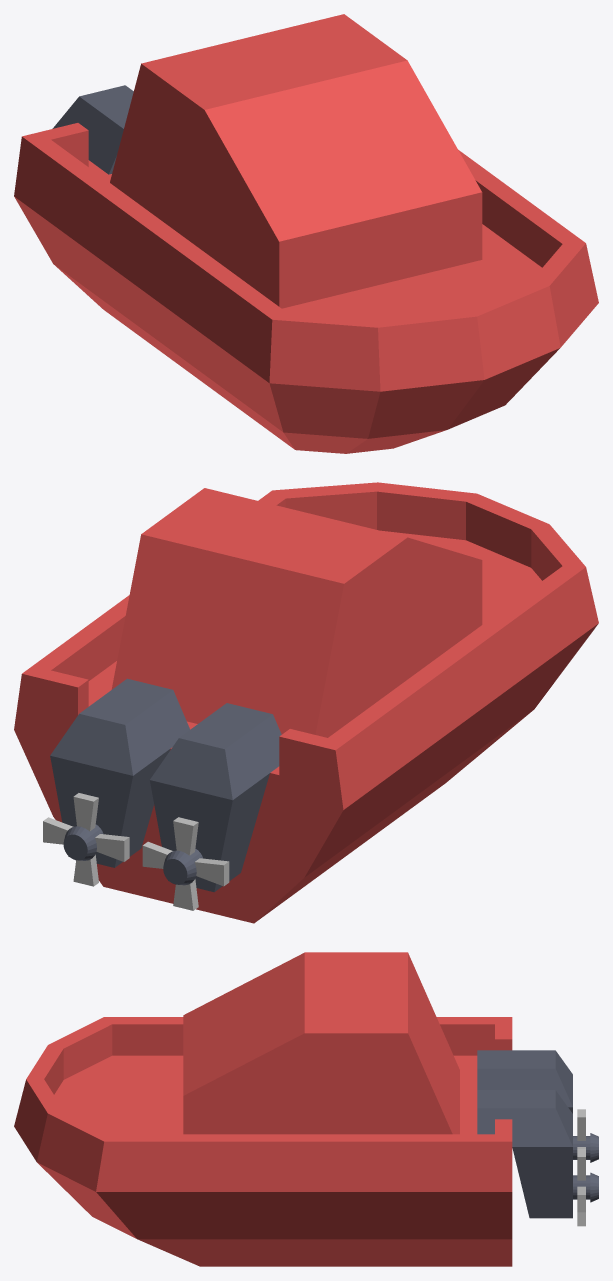
The model's file is watercraftpack_009.glb.
The picture shows the model from 3 angles, top to bottom: view 1: azimuth 30°, elevation 25°; view 2: azimuth 150°, elevation 25°; view 3: azimuth 270°, elevation 25°; orthographic projection. The views are drawn at different scales.
Parts seen in each view (by area): view 1: Mesh5 Group1 Model, Mesh1 Group2 Group1 Model; view 2: Mesh5 Group1 Model, Mesh1 Group2 Group1 Model, Mesh3 Group4 Group1 Model, Mesh4 Group5 Group1 Model, Mesh2 Group3 Group1 Model; view 3: Mesh5 Group1 Model, Mesh3 Group4 Group1 Model, Mesh1 Group2 Group1 Model, Mesh2 Group3 Group1 Model.
Boxes of the visible parts, left/top/right/bottom form: Mesh5 Group1 Model: left=14, top=14, right=598, bottom=453; Mesh1 Group2 Group1 Model: left=52, top=85, right=133, bottom=174; Mesh5 Group1 Model: left=14, top=482, right=598, bottom=923; Mesh1 Group2 Group1 Model: left=150, top=703, right=281, bottom=892; Mesh3 Group4 Group1 Model: left=50, top=678, right=189, bottom=867; Mesh4 Group5 Group1 Model: left=142, top=817, right=229, bottom=910; Mesh2 Group3 Group1 Model: left=43, top=793, right=129, bottom=886; Mesh5 Group1 Model: left=14, top=952, right=512, bottom=1266; Mesh3 Group4 Group1 Model: left=477, top=1090, right=598, bottom=1218; Mesh1 Group2 Group1 Model: left=477, top=1050, right=598, bottom=1162; Mesh2 Group3 Group1 Model: left=577, top=1149, right=585, bottom=1226.
Bounding box in the file's own units: 1.78 × 1.55 × 3.37.
